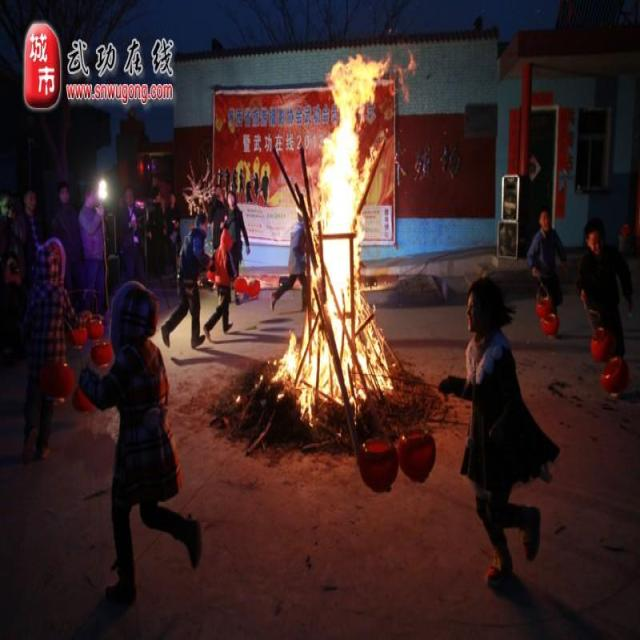non-fight: (63, 280, 200, 616), (448, 266, 572, 600), (574, 216, 639, 398), (163, 218, 214, 350), (526, 207, 570, 336)
